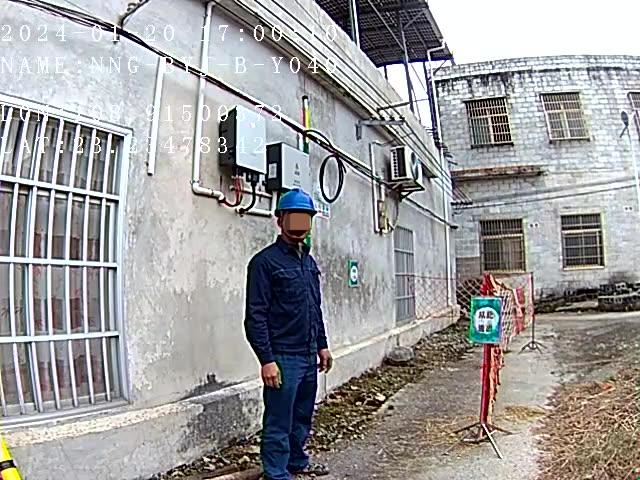halt: (276, 191, 320, 245)
